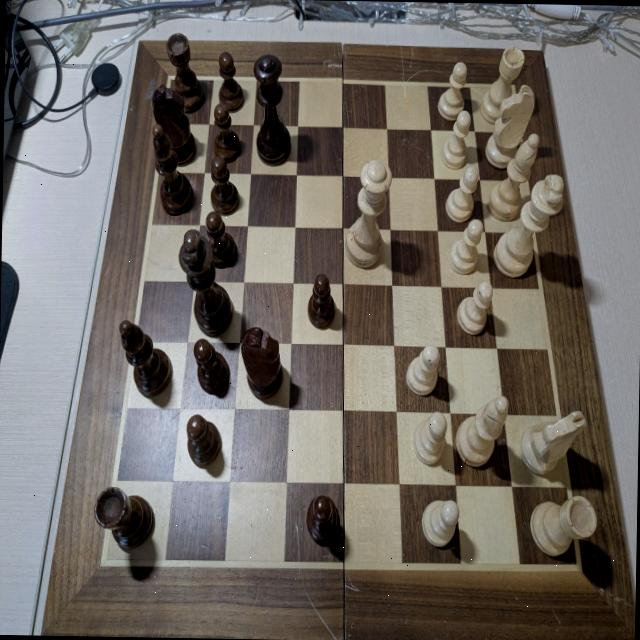black_bishop: (116, 320, 173, 396), (150, 124, 194, 217)
black_king: (178, 230, 235, 334)
black_knight: (150, 81, 197, 165), (240, 326, 284, 398)
black_pawn: (192, 338, 232, 398), (185, 412, 222, 468), (204, 209, 237, 267), (209, 156, 240, 214), (212, 101, 240, 163), (216, 51, 244, 112), (304, 494, 338, 544), (306, 273, 336, 329)
black_queen: (252, 52, 292, 166)
black_rook: (93, 484, 155, 549), (164, 31, 205, 114)
white_bishop: (487, 132, 539, 221), (455, 396, 508, 466)
white_king: (493, 172, 564, 278)
white_knight: (518, 407, 588, 475), (484, 85, 536, 169)
white_pawn: (444, 162, 480, 222), (454, 278, 492, 332), (448, 217, 484, 274), (412, 410, 448, 466), (436, 60, 467, 123), (441, 108, 472, 169), (404, 344, 440, 396), (422, 498, 459, 548)
white_queen: (344, 158, 392, 268)
white_rook: (529, 493, 597, 558), (480, 44, 524, 124)
